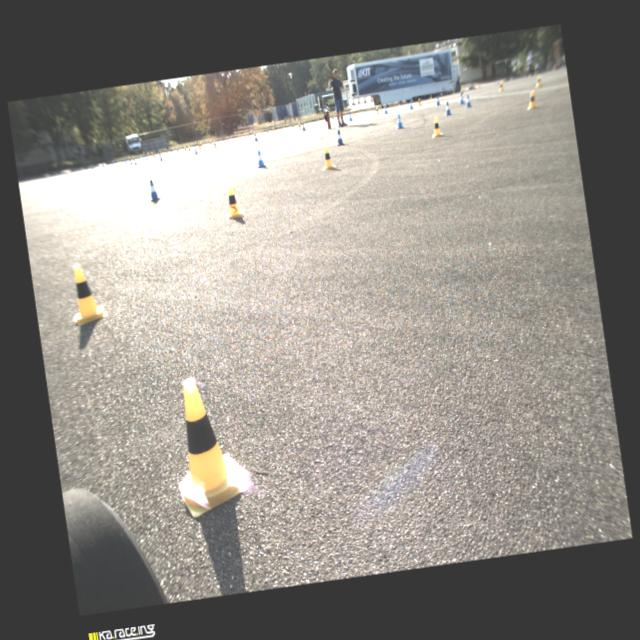blue_cone: (148, 180, 161, 202), (256, 149, 266, 168), (335, 129, 345, 146), (394, 114, 404, 130), (443, 100, 452, 116), (464, 95, 472, 108), (458, 93, 464, 105), (434, 96, 440, 106), (408, 100, 414, 110), (348, 113, 353, 121), (384, 105, 388, 114), (194, 146, 198, 154)
yellow_cone: (164, 371, 254, 519), (65, 260, 109, 326), (223, 184, 244, 220), (320, 146, 336, 171), (429, 116, 444, 138), (525, 90, 537, 110), (534, 74, 543, 88), (497, 80, 504, 92), (376, 106, 380, 115), (418, 98, 422, 106)
